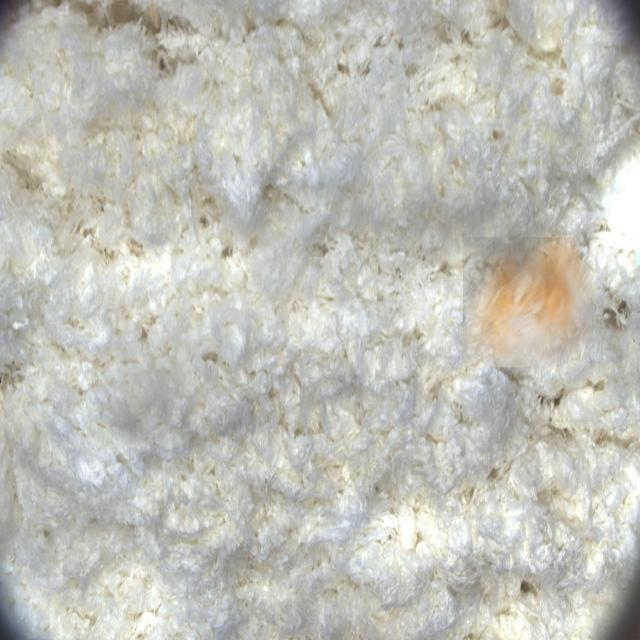dust: (463, 237, 593, 367)
